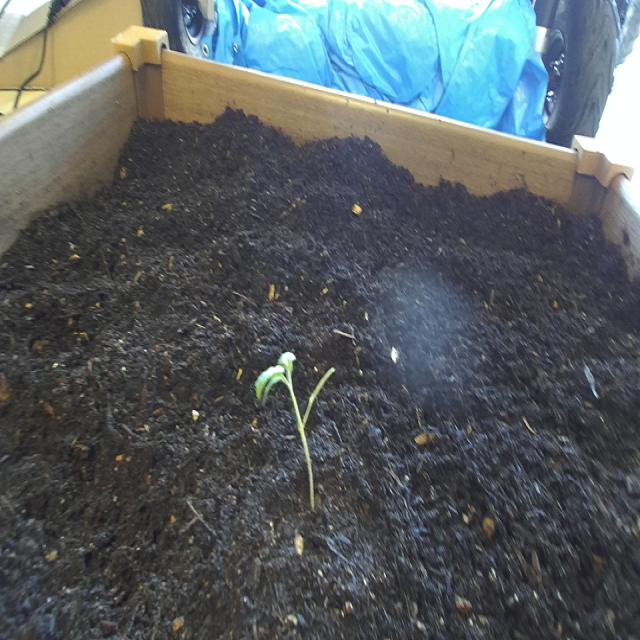Healthy: (252, 345, 338, 516)
